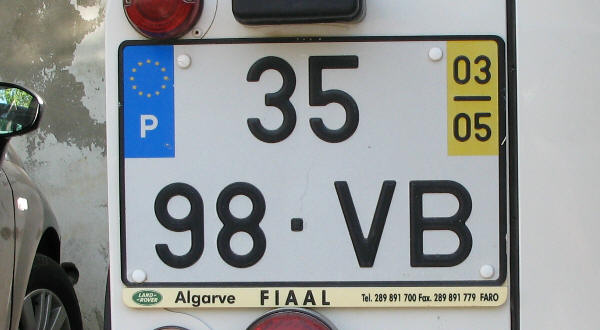license_plate: (115, 37, 507, 286)
